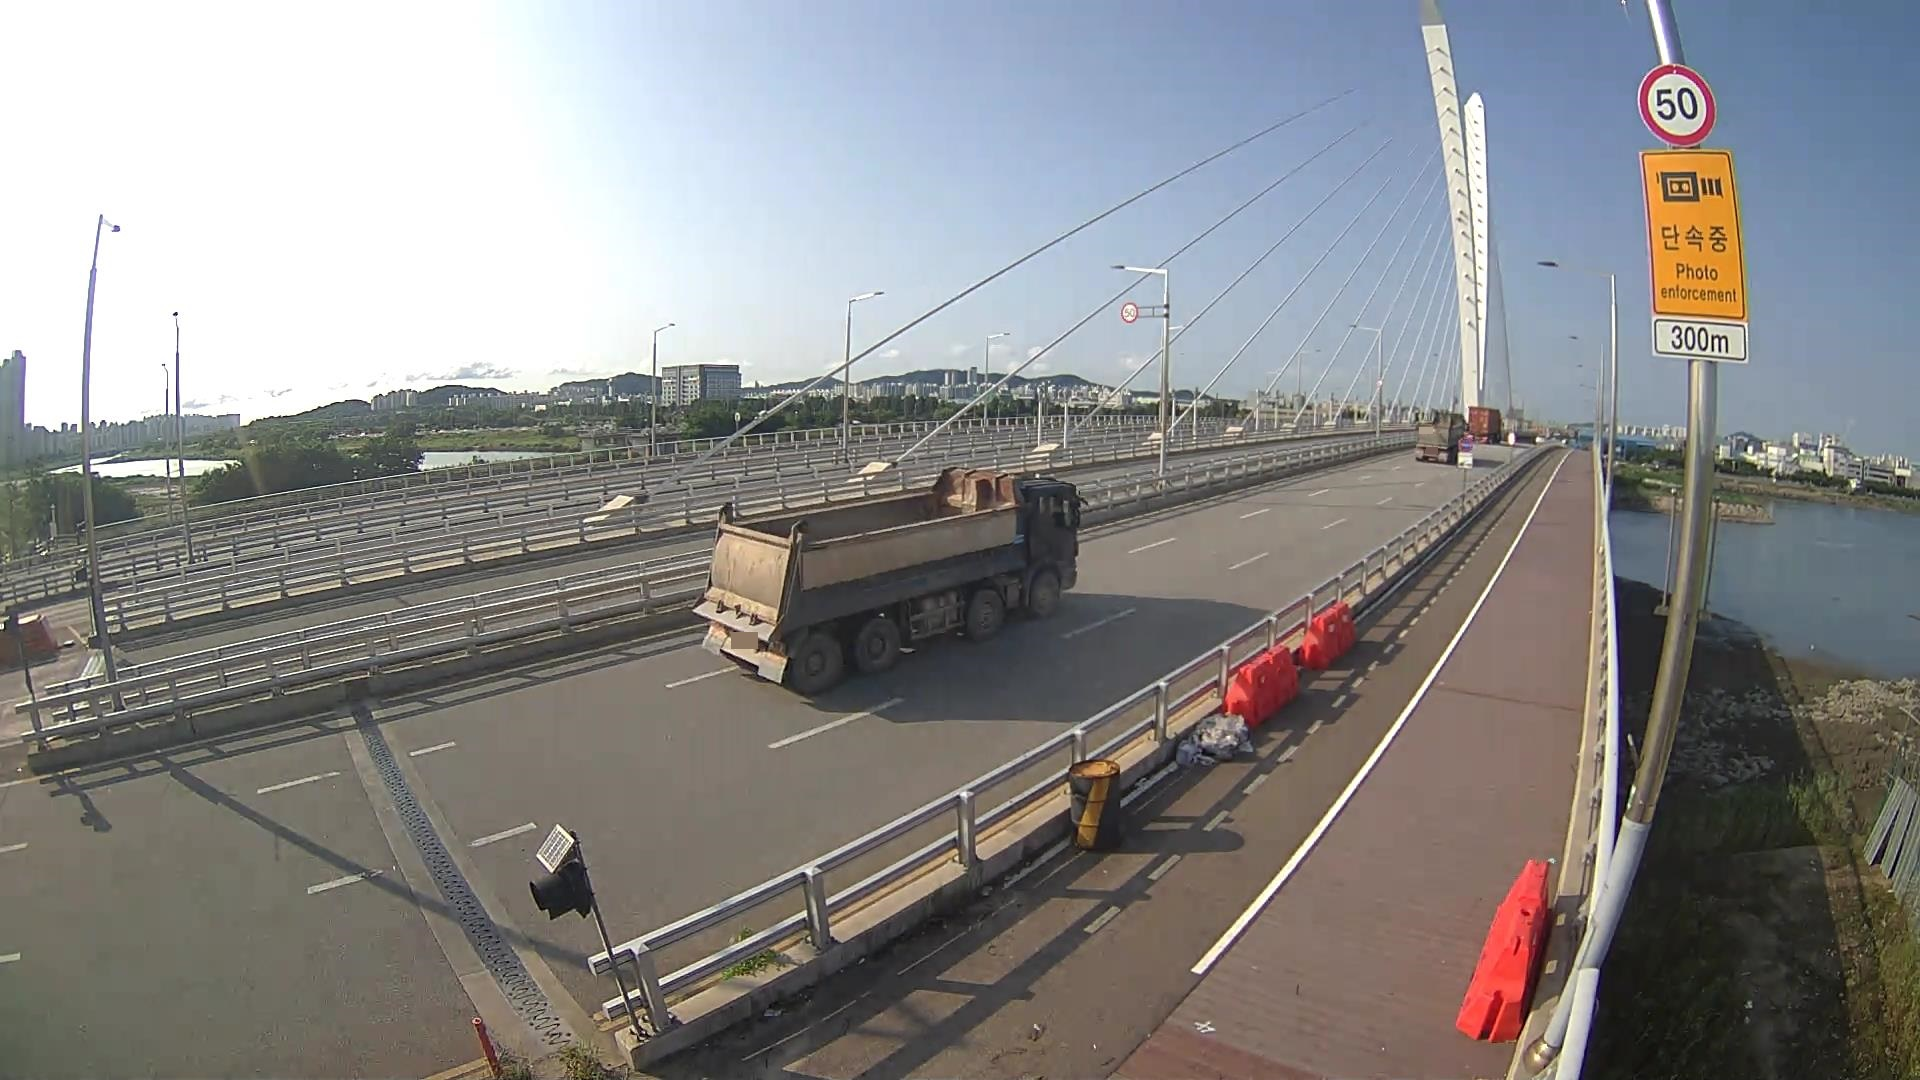정상차량: (692, 465, 1091, 694)
